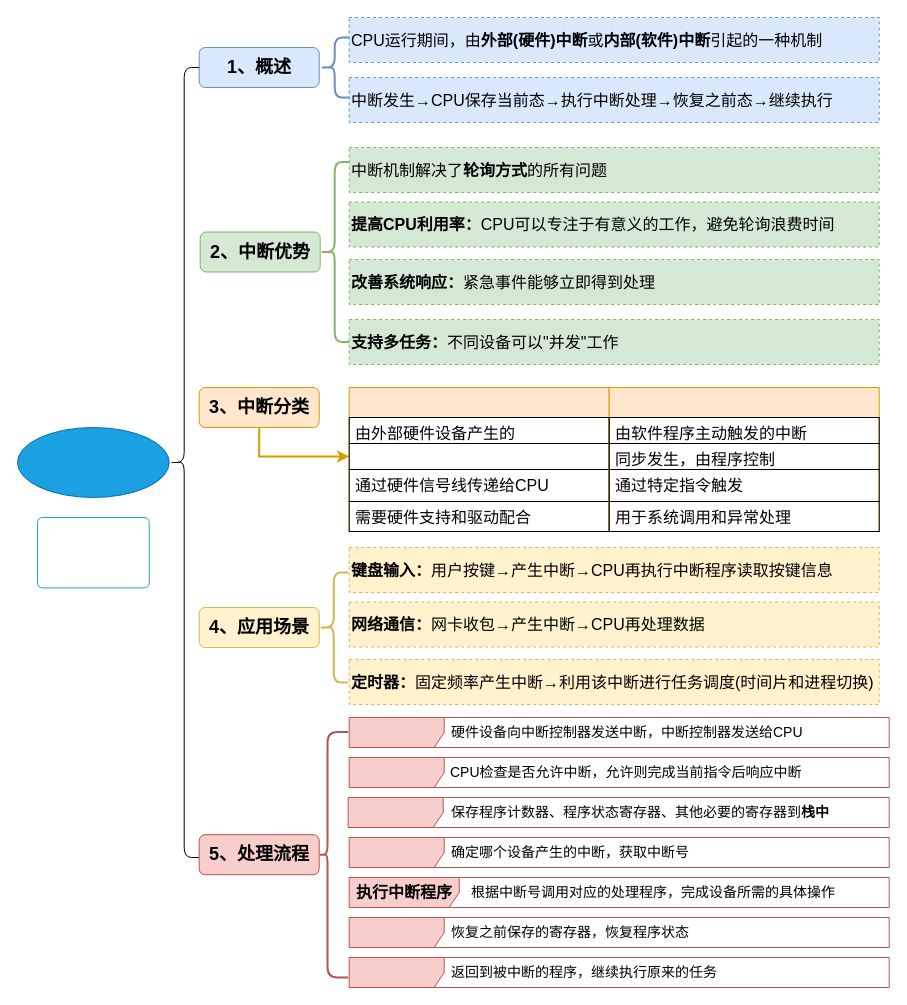
The diagram is 907 pixels wide and 1005 high, and some of its shapes have lost their labels. The box of each missing label's shape, as (x1, y1, x2, y2) in pixels:
中断响应: (348, 756, 889, 788)
中断基础概念: (16, 426, 169, 498)
中断识别: (348, 836, 889, 868)
中断请求: (348, 716, 889, 748)
中断返回: (348, 956, 889, 988)
保护现场: (347, 796, 889, 828)
完全异步，可在任何时刻发生: (348, 442, 609, 470)
恢复现场: (348, 916, 889, 948)
硬件中断(关注! ): (348, 386, 609, 532)
软件中断: (608, 386, 879, 532)
🌻Make By Dakkk: (36, 516, 149, 588)
